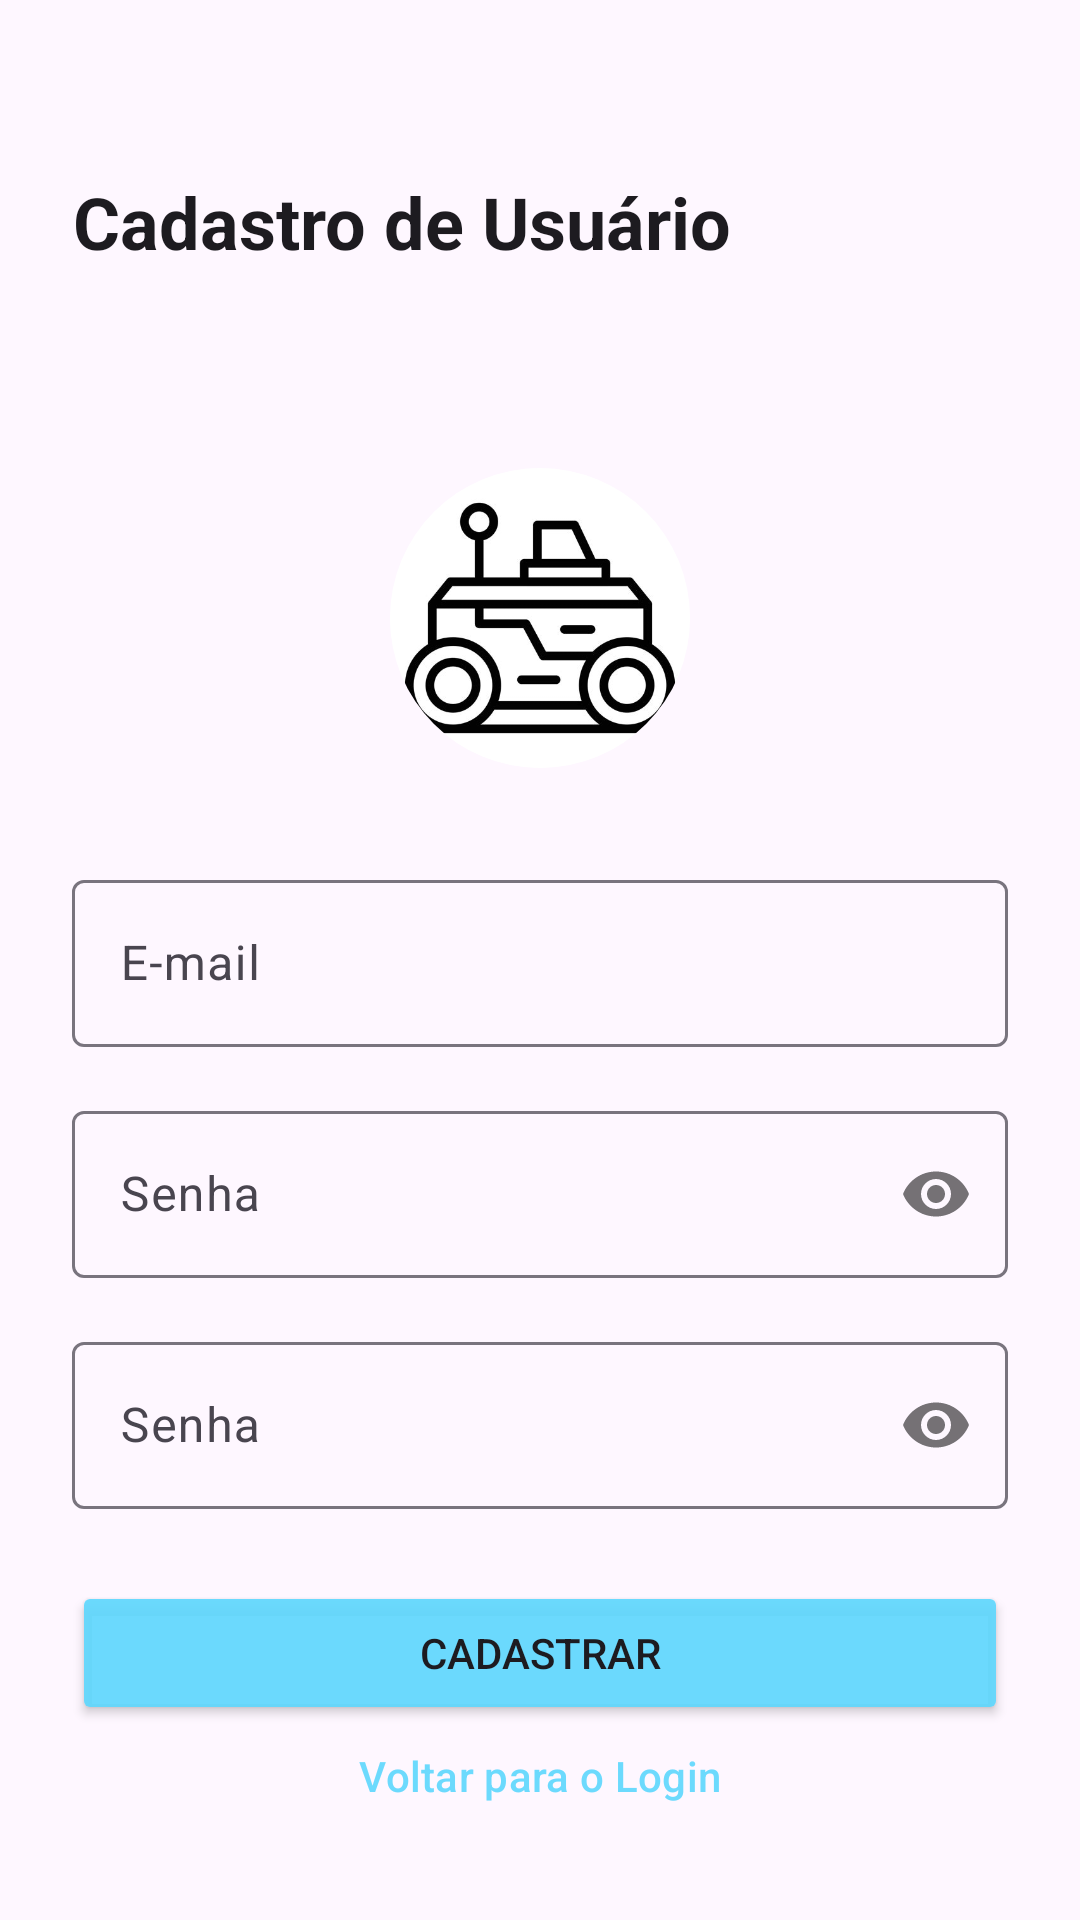

Screen size 1080 × 1920. Icon name, then its center in pixels as (x,y):
robot: (540,618)
